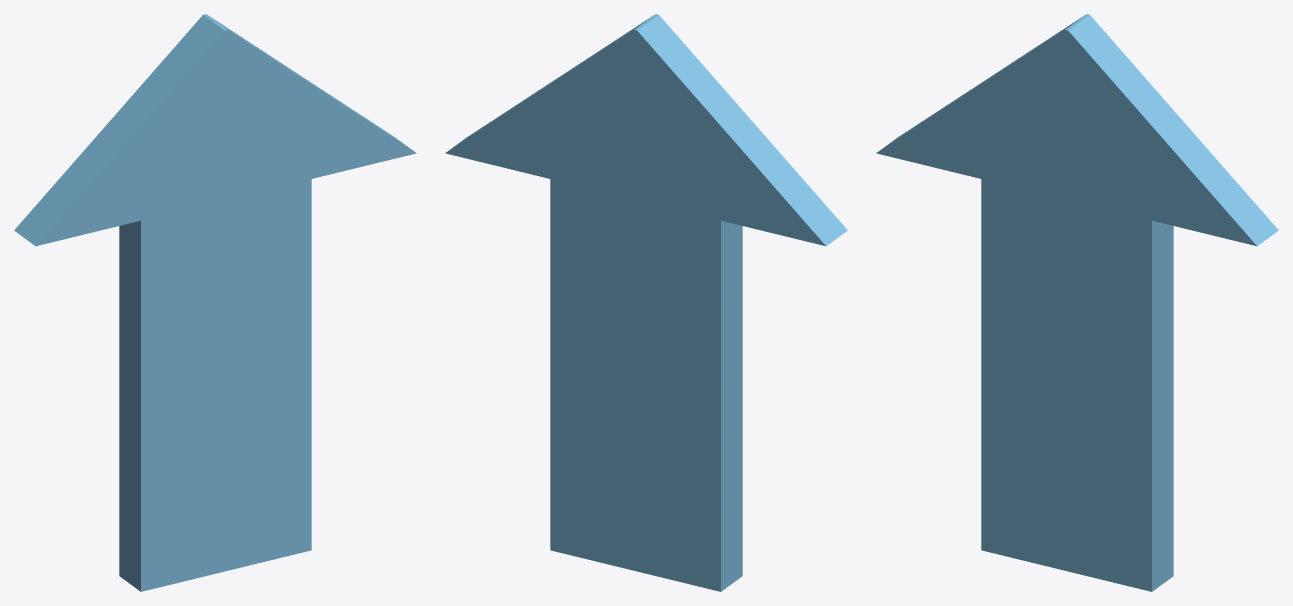
Rendered from arrow.fbx.
3 views of the same model, side by side, from view 1: azimuth 30°, elevation 25°; view 2: azimuth 150°, elevation 25°; view 3: azimuth 330°, elevation 25° (orthographic).
Parts seen in each view (by area): view 1: Cube; view 2: Cube; view 3: Cube.
Boxes of the visible parts, box(x1,y1,x2,y2) form: Cube: box(14, 14, 416, 591); Cube: box(445, 14, 847, 591); Cube: box(876, 14, 1278, 591).
Size of the model in its own units: 3820 by 5178 by 376.
